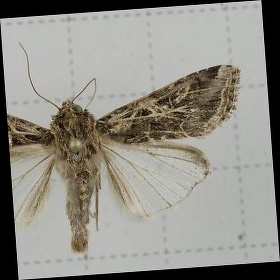Spodoptera litura: (10, 35, 245, 249)
